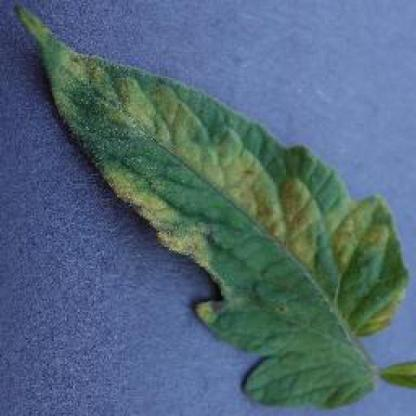Tomato_Leaf_Mold: (14, 6, 406, 404)
